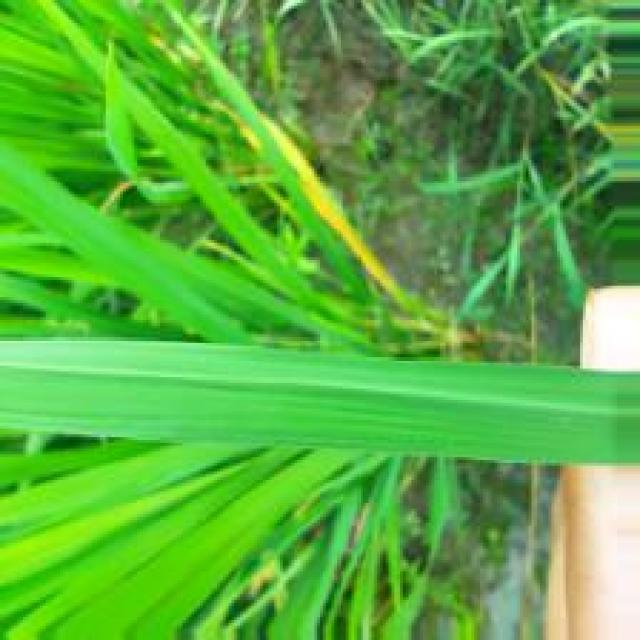HealthyLeaf: (0, 337, 640, 468)
